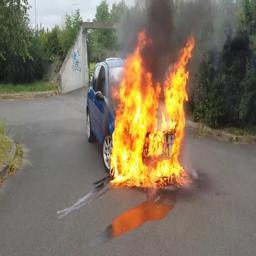fire: (112, 29, 196, 183)
